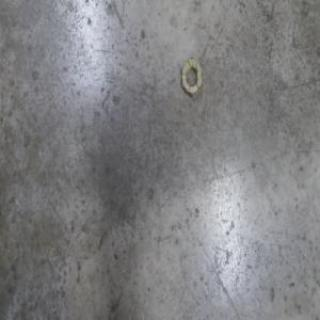Nuttrack_idkeyframe: (180, 54, 202, 97)
